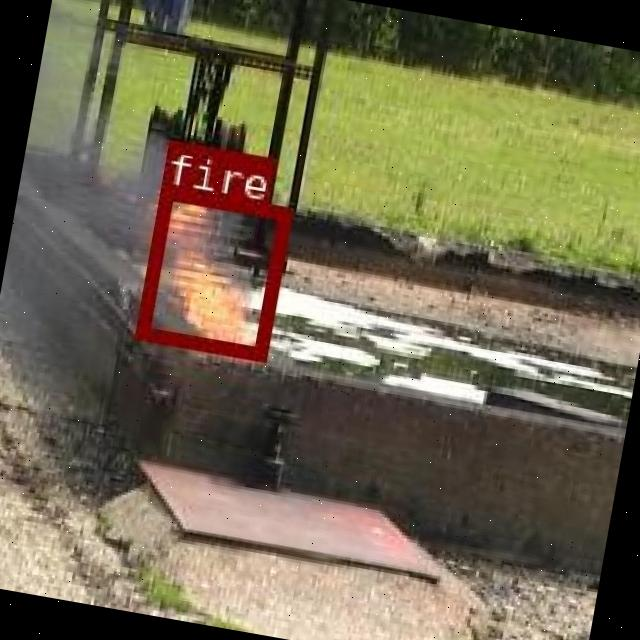fire: (134, 185, 288, 356)
